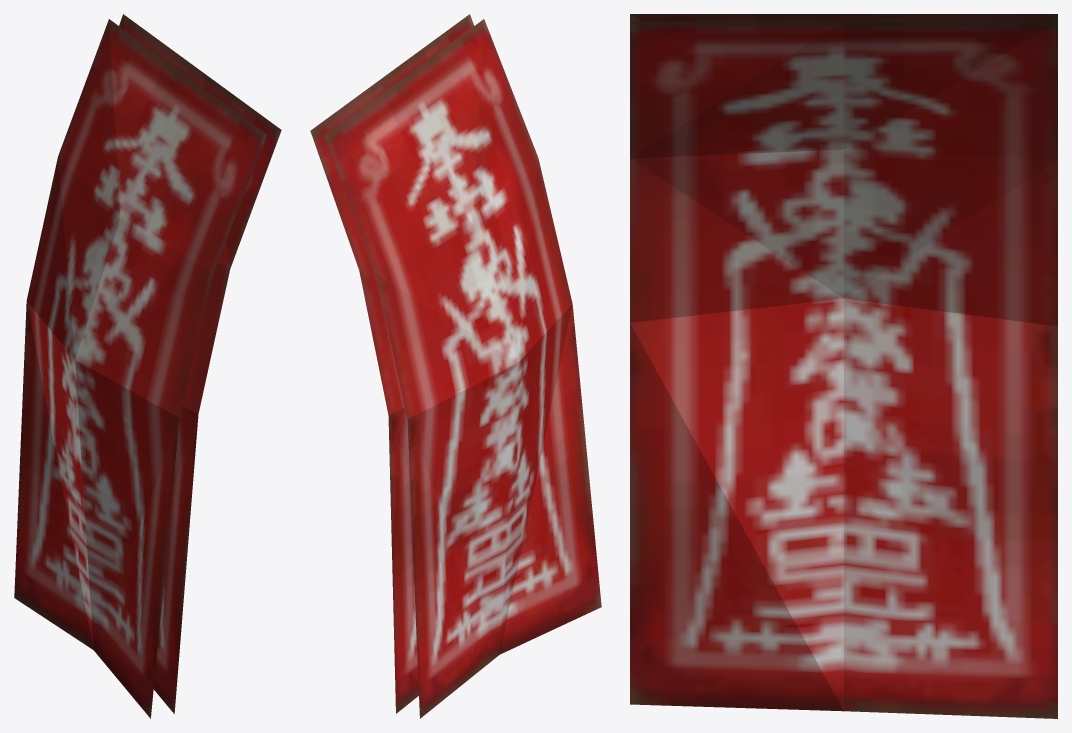
File: Bison_chineseTalisman_chineseTalisman2.obj
3 renders of one model, left to right at view 1: azimuth 30°, elevation 25°; view 2: azimuth 150°, elevation 25°; view 3: azimuth 270°, elevation 25°, orthographic. The views are drawn at different scales.
Parts seen in each view (by area): view 1: Bison_chineseTalisman_tri [chineseTalisman2]; view 2: Bison_chineseTalisman_tri [chineseTalisman2]; view 3: Bison_chineseTalisman_tri [chineseTalisman2].
Boxes of the visible parts, x1,y1,x2,y2 form: Bison_chineseTalisman_tri [chineseTalisman2]: (14, 14, 281, 718); Bison_chineseTalisman_tri [chineseTalisman2]: (310, 14, 601, 718); Bison_chineseTalisman_tri [chineseTalisman2]: (630, 14, 1057, 718).
Size of the model in its own units: 0.1347 by 0.5495 by 0.2827.
1 material, 1 textured.
